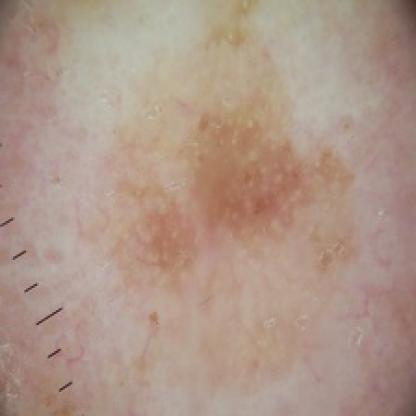malignant: (124, 45, 344, 282)
